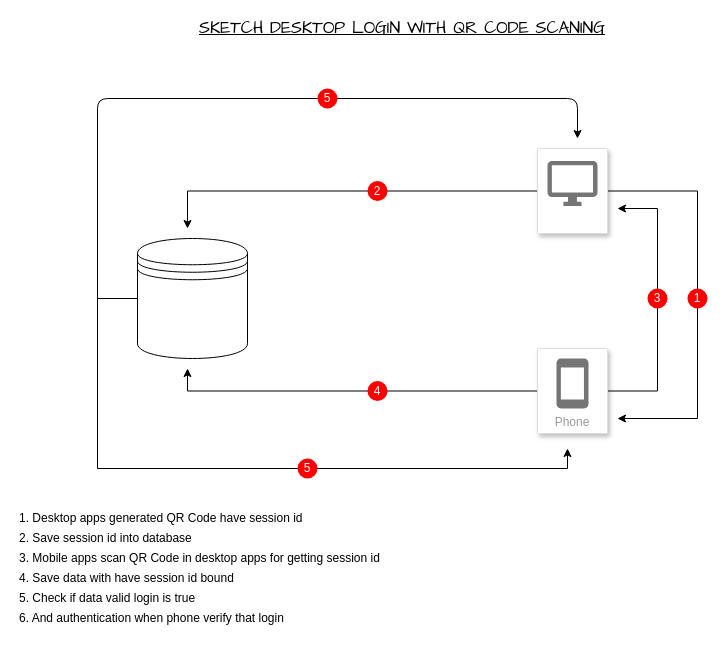
The diagram is 724 pixels wide and 645 high, and some of its shapes have lost their labels. The shapes that lost their labels are listed below. From the top down, each one's centre as x and y in pixels, then its label:
the point at 573,192: Desktop
the point at 192,298: DATABASE
